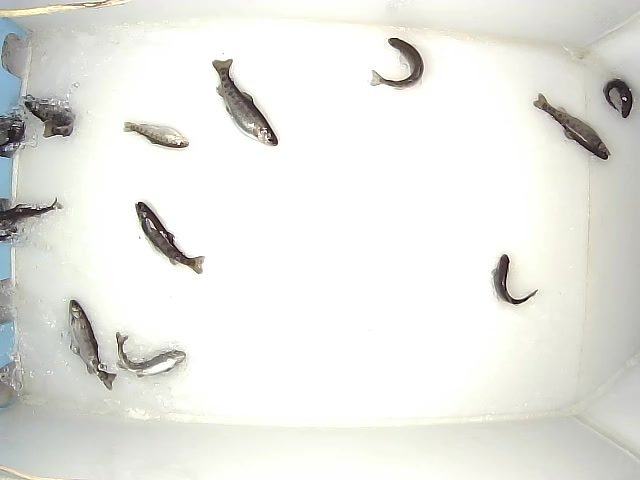fish: (211, 58, 279, 147), (532, 92, 611, 161), (134, 201, 206, 275), (66, 298, 117, 391), (115, 330, 187, 379), (369, 37, 424, 91), (22, 94, 77, 139), (491, 253, 538, 305), (122, 120, 189, 149), (1, 196, 65, 222), (602, 77, 634, 120)
